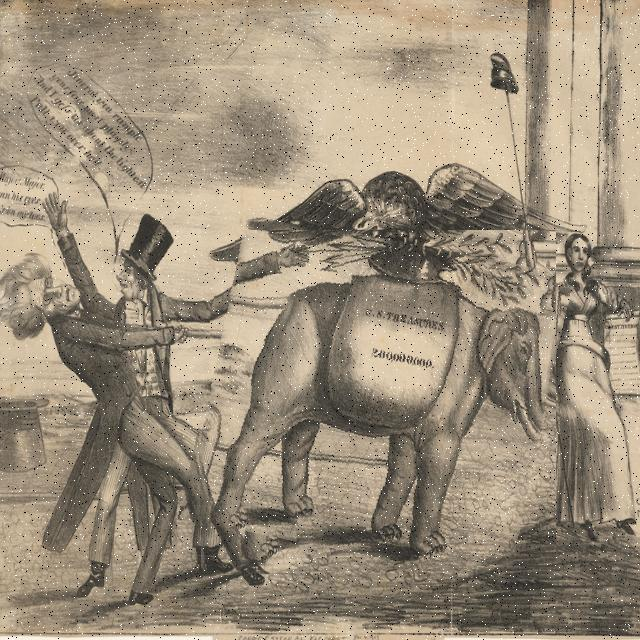elephant: (194, 230, 556, 576)
